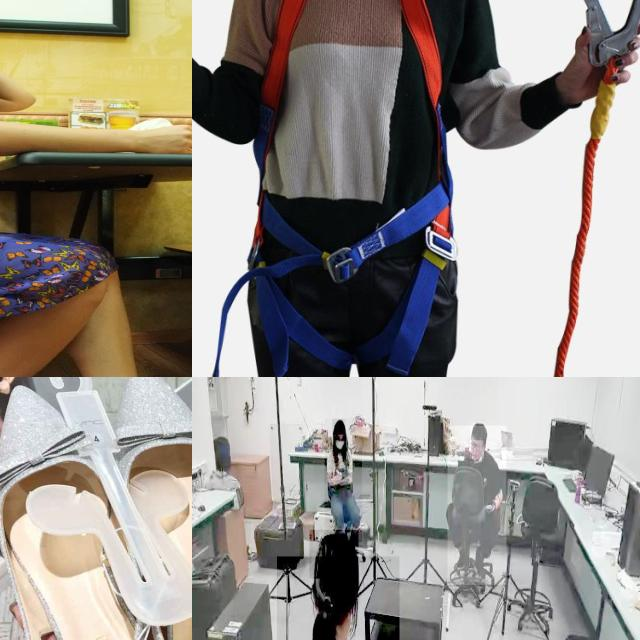Harness: (248, 0, 453, 376)
Sandals: (0, 377, 192, 640)
face_mask: (333, 436, 346, 456)
face_nomask: (470, 440, 484, 460)
head_nohelmet: (309, 530, 359, 580), (470, 422, 486, 440), (332, 418, 346, 436)
person: (277, 556, 400, 640), (447, 426, 507, 586), (324, 419, 362, 543)
